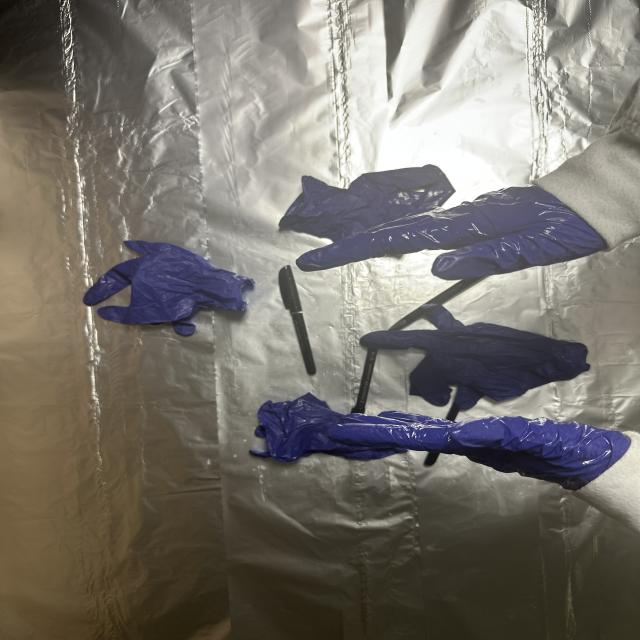gloves_contaminated: (296, 186, 605, 280), (352, 417, 631, 490)
